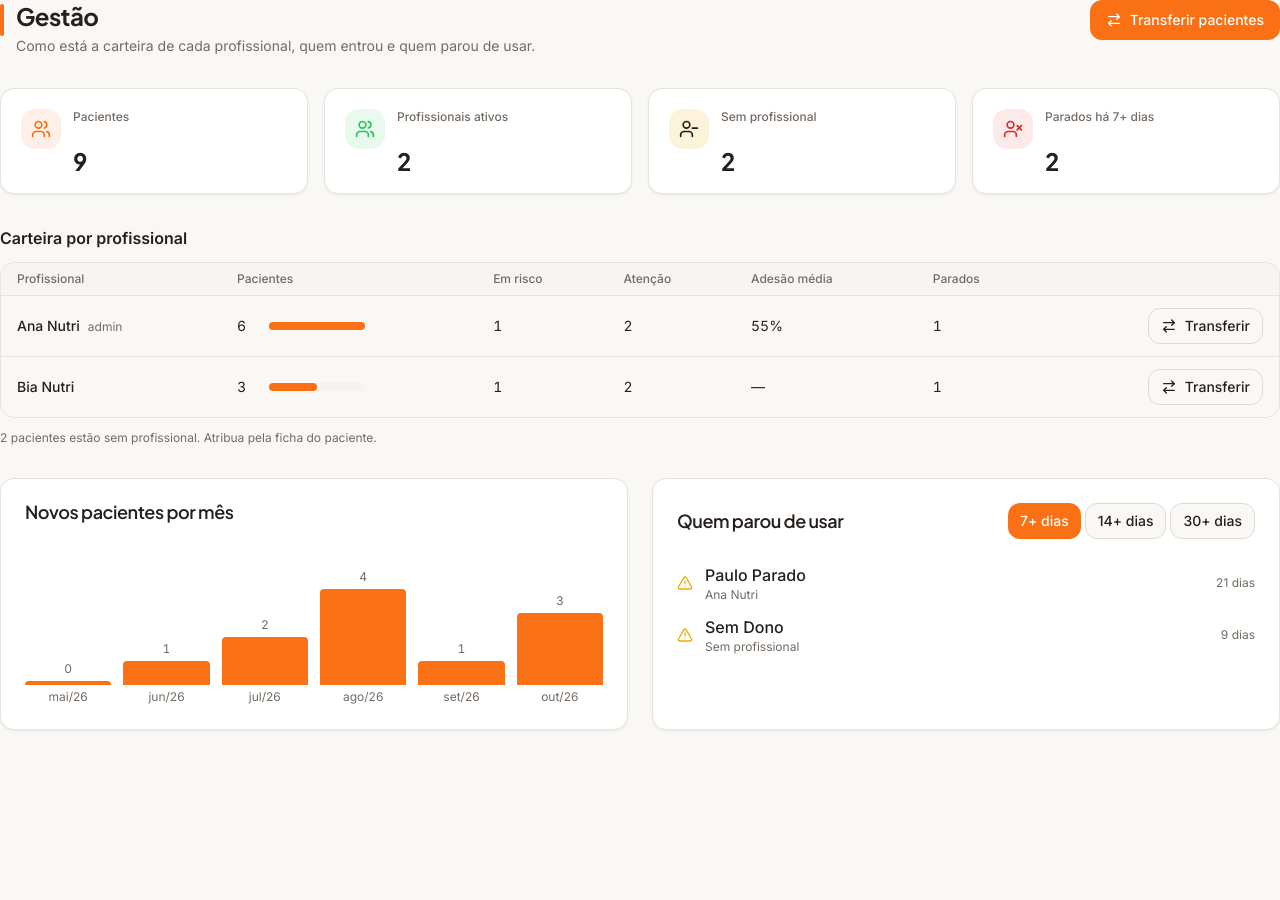
Test: ManagementPage › transferir: escolhe pacientes, confirma e envia só os selecionados
Click the button with aria-label "Transferir pacientes de Ana Nutri".
click(1205, 326)  # box [1148,308,1263,344]
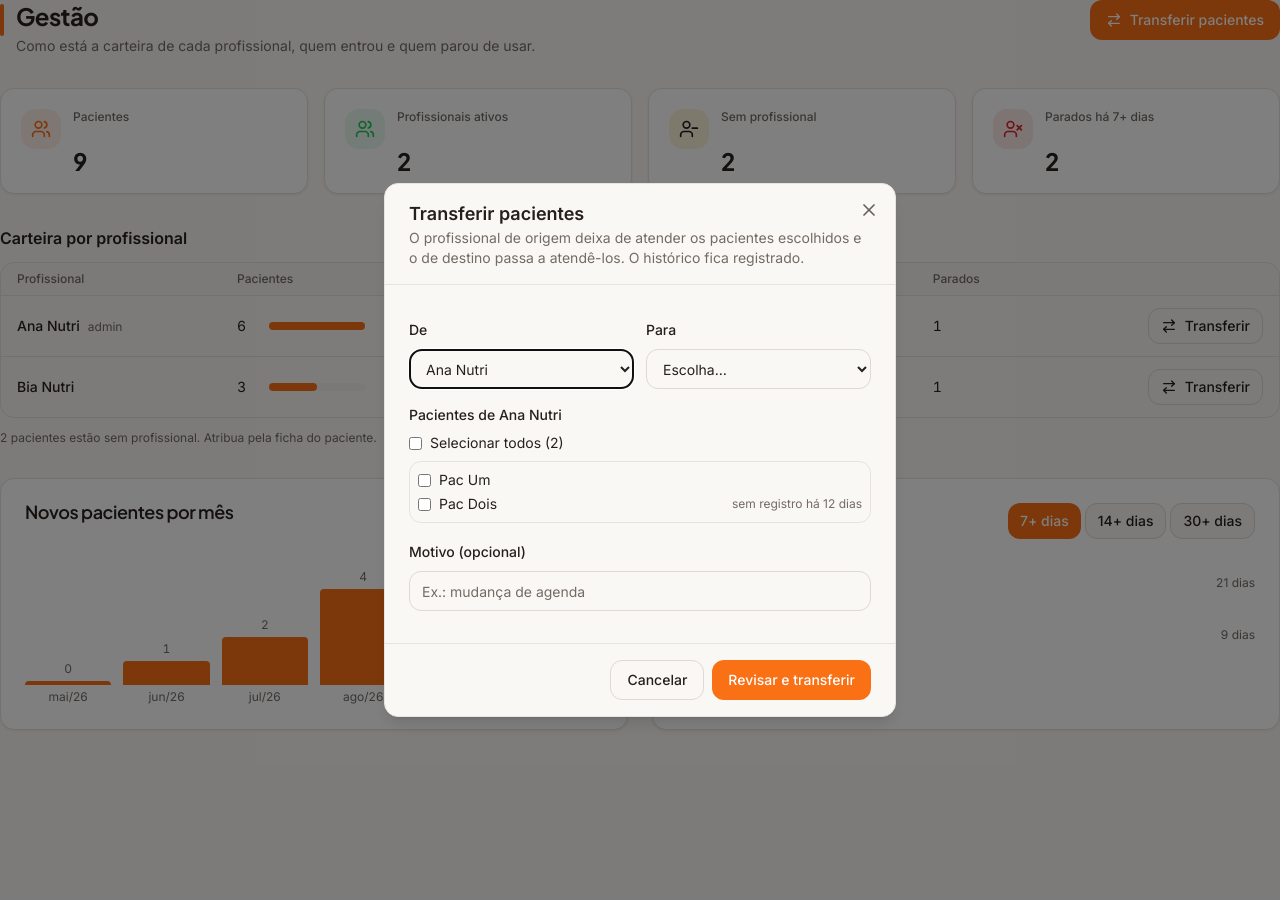
Expected: the checkbox labelled "Pac Um" is shown, [418,474,431,486]
Select "Bia Nutri" in the dropdown labelled "Para" at (758, 369), box [646,349,871,389]
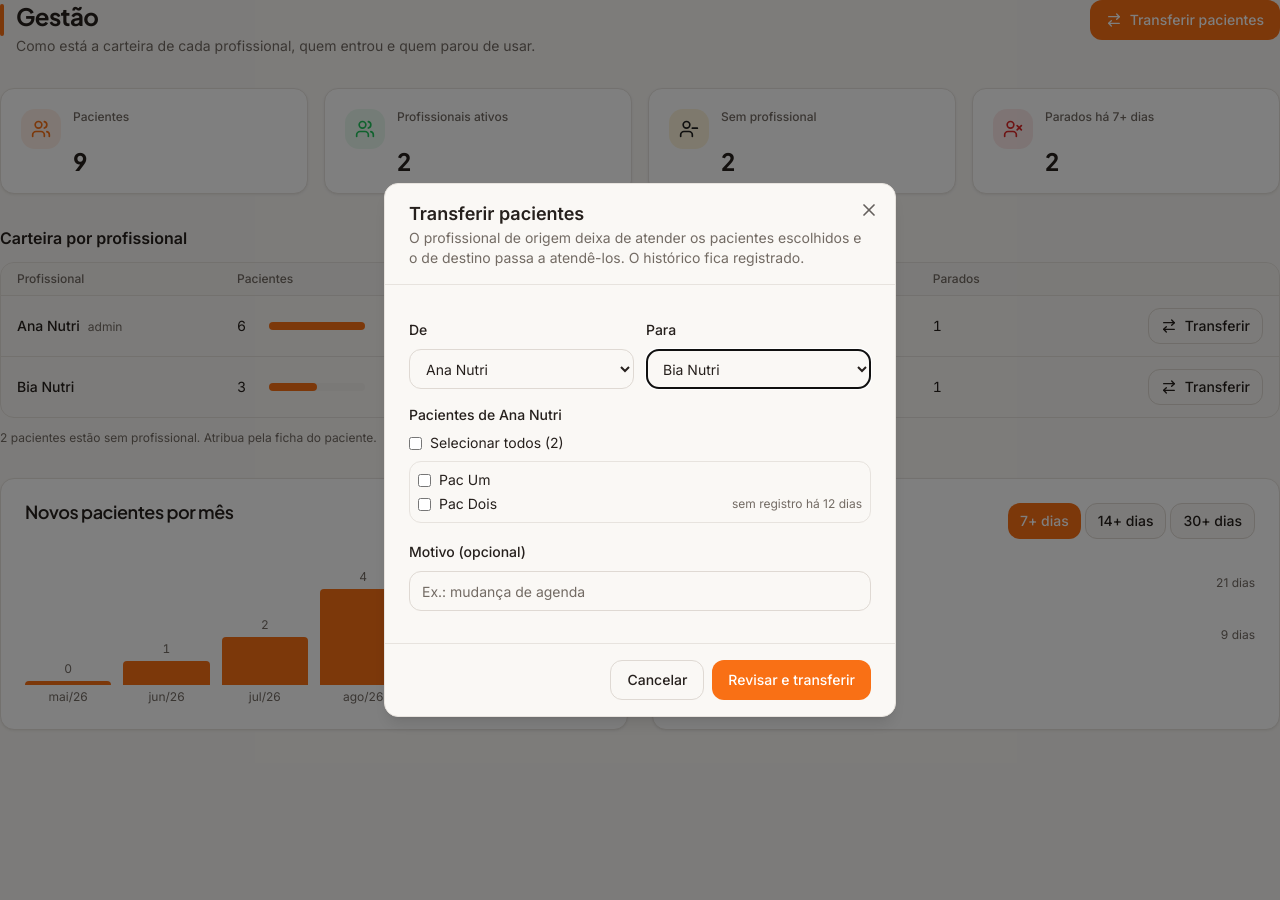
Click the checkbox labelled "Pac Um".
click(424, 480)  # box [418,474,431,486]
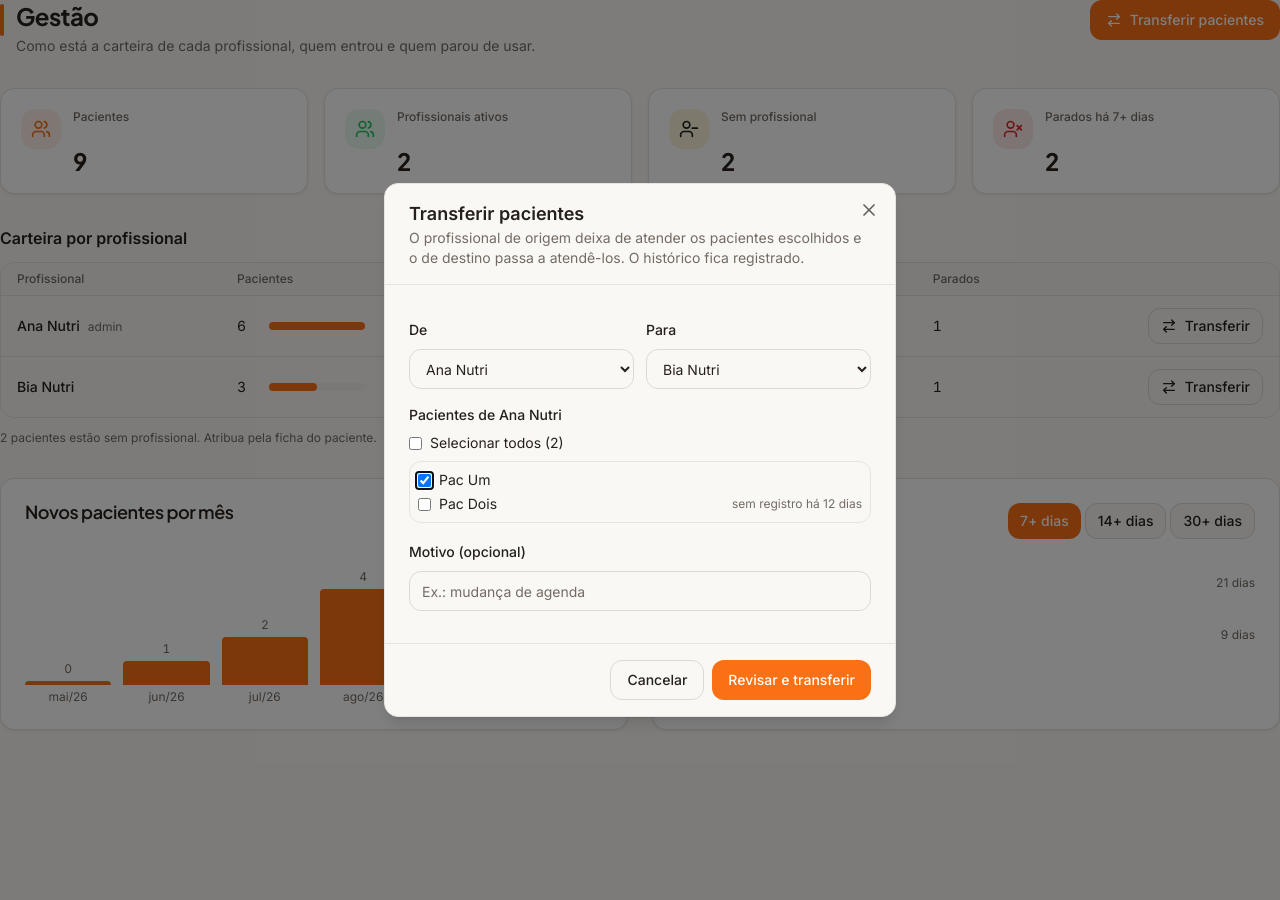
Type "agenda" into the field labelled "Motivo (opcional)".
click(640, 591); type("agenda")  # box [409,571,871,611]
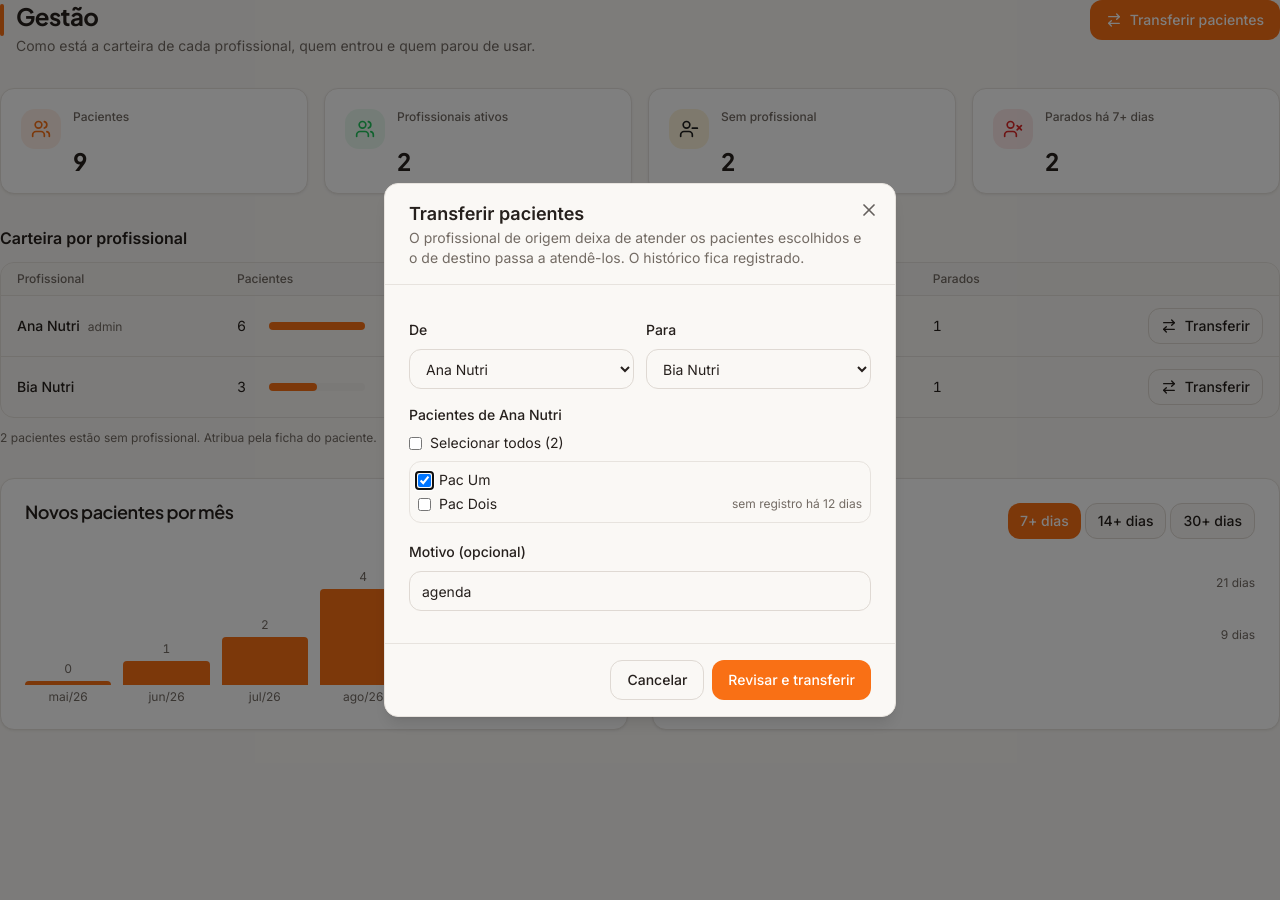
Click the button "Revisar e transferir".
click(792, 680)  # box [712,660,871,700]
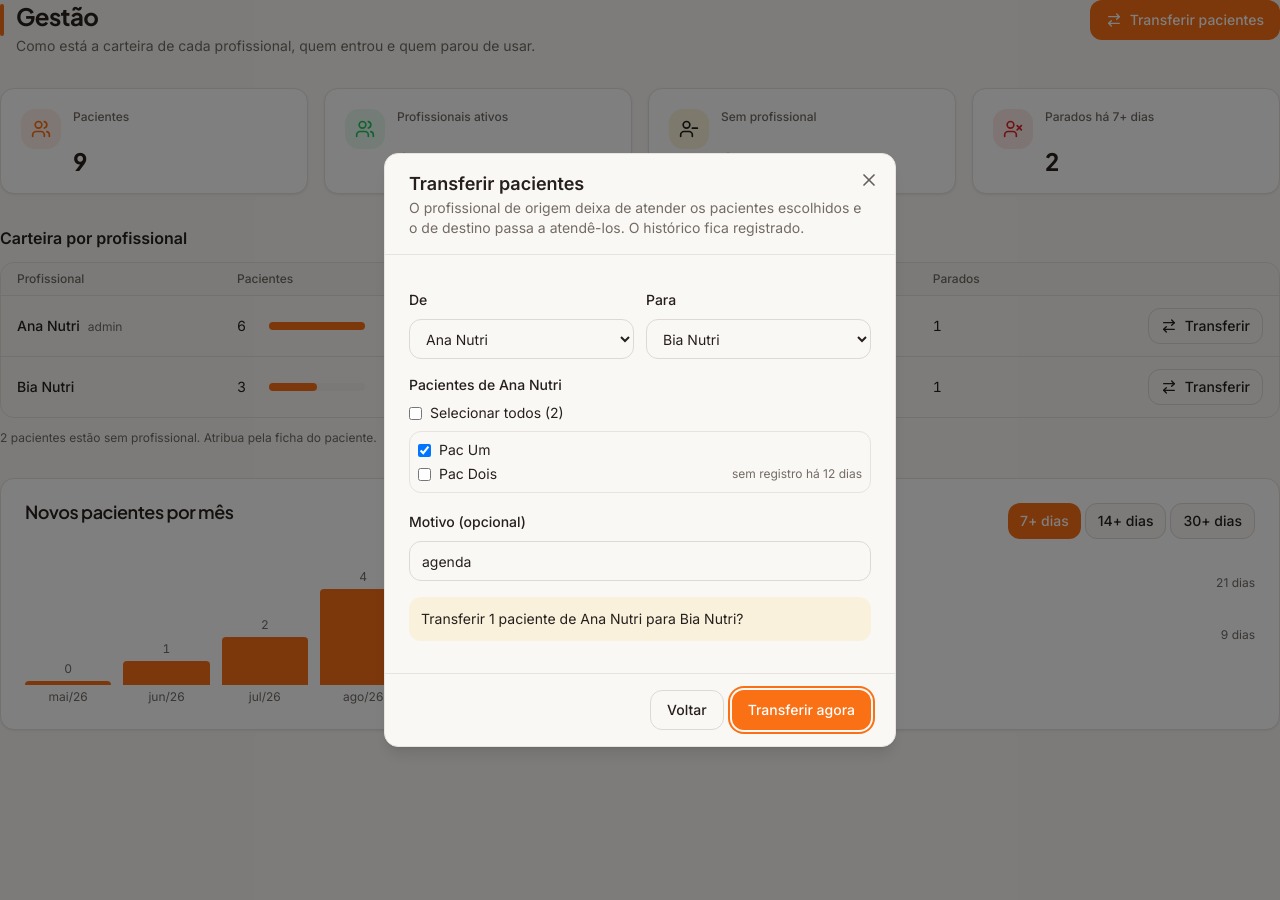
Expected: the message shows "Transferir 1 paciente de Ana Nutri para Bia Nutri", [409,597,871,641]
Click the button "Transferir agora".
click(801, 710)  # box [732,690,871,730]
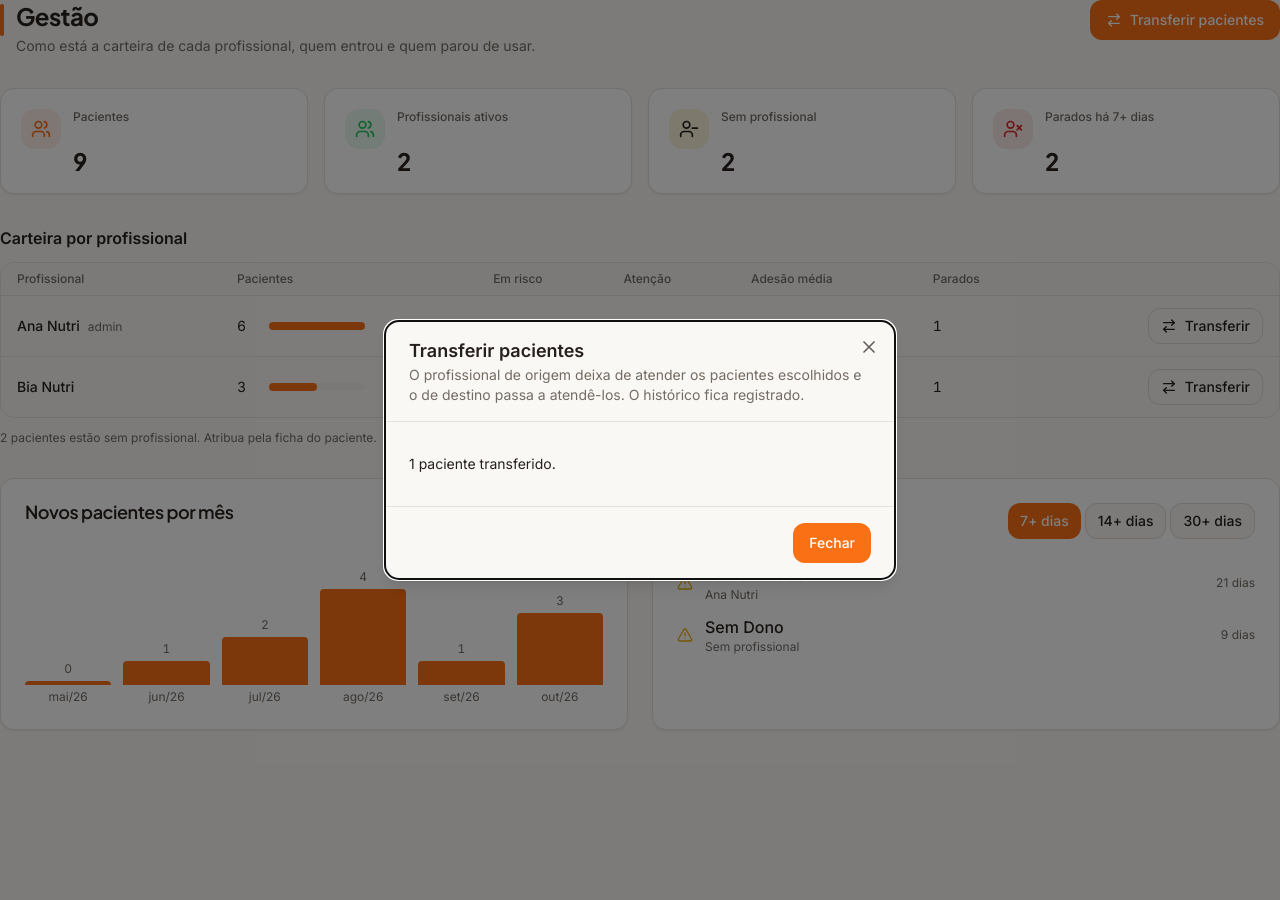
Expected: the message shows "1 paciente transferido", [409,455,556,472]
